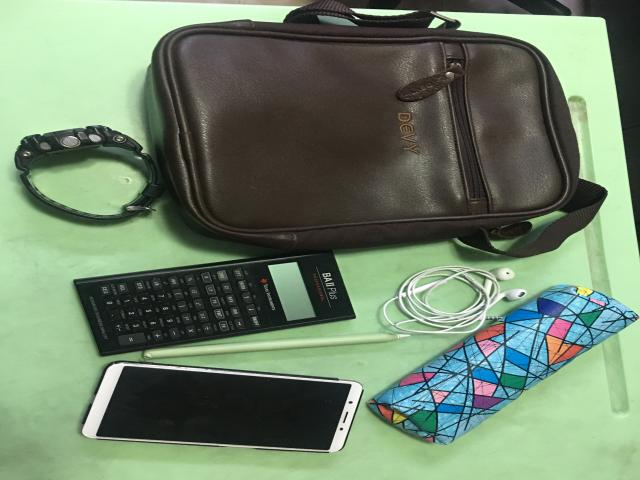Mobile phone: (82, 361, 362, 453)
Watch: (15, 126, 163, 220)
wire: (383, 265, 527, 334)
